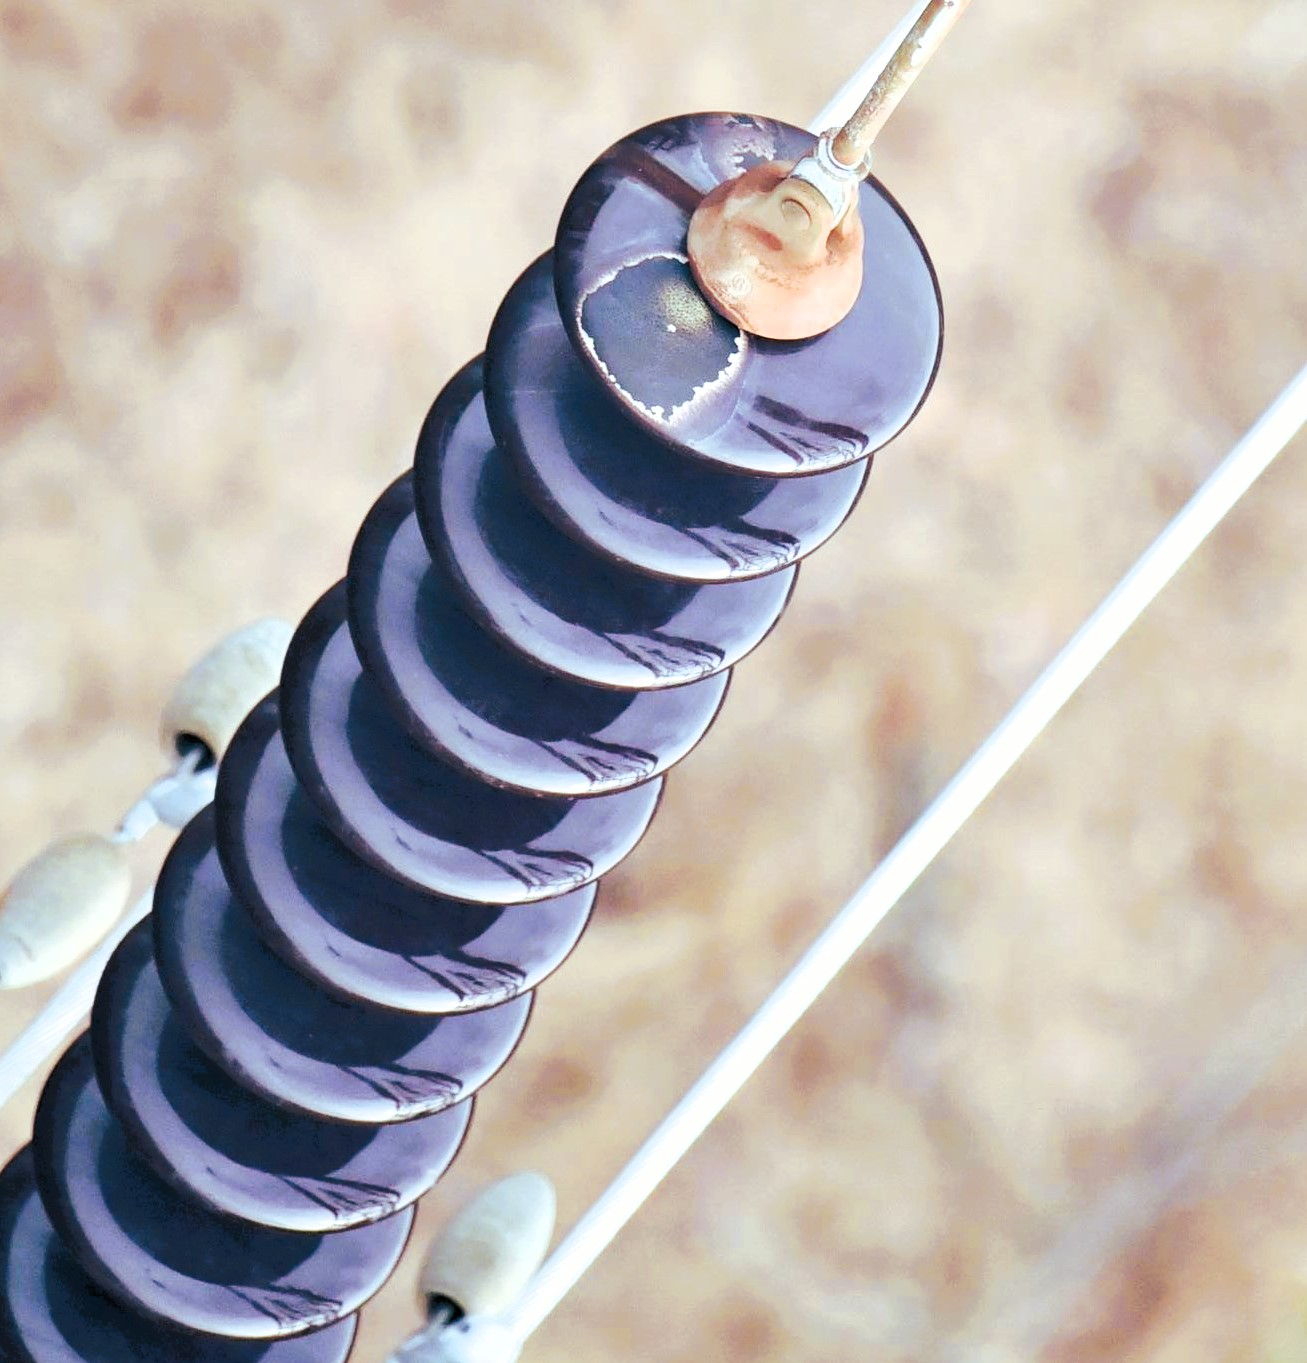Insulator flashover: (542, 102, 966, 488)
